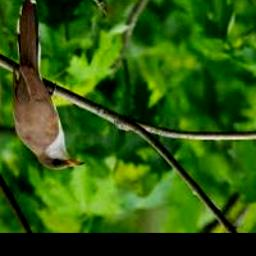Cuckoo: (12, 0, 86, 170)
